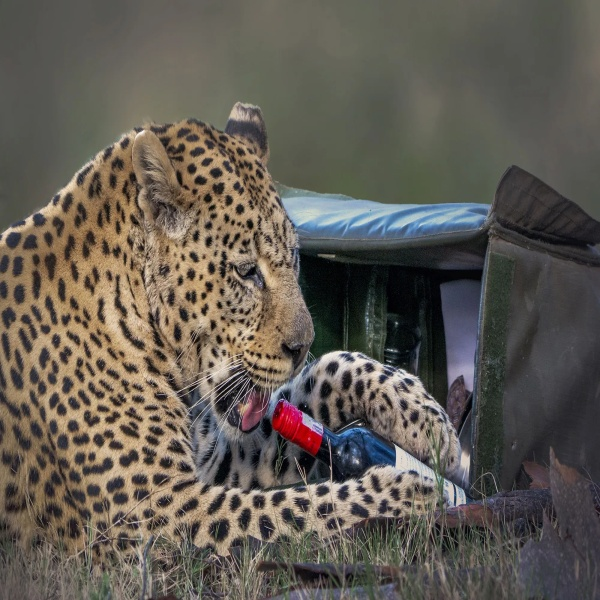Leopard: (5, 97, 474, 559)
